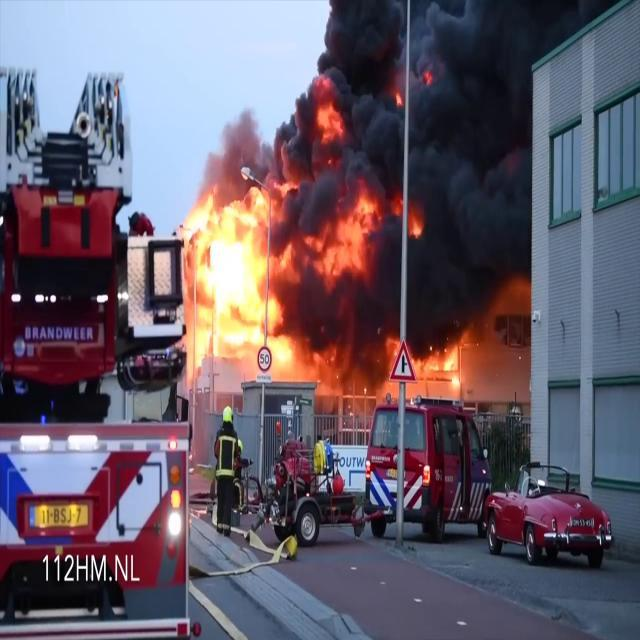Fire: (183, 178, 293, 364), (420, 340, 462, 400)
Smoke: (234, 0, 536, 350)
